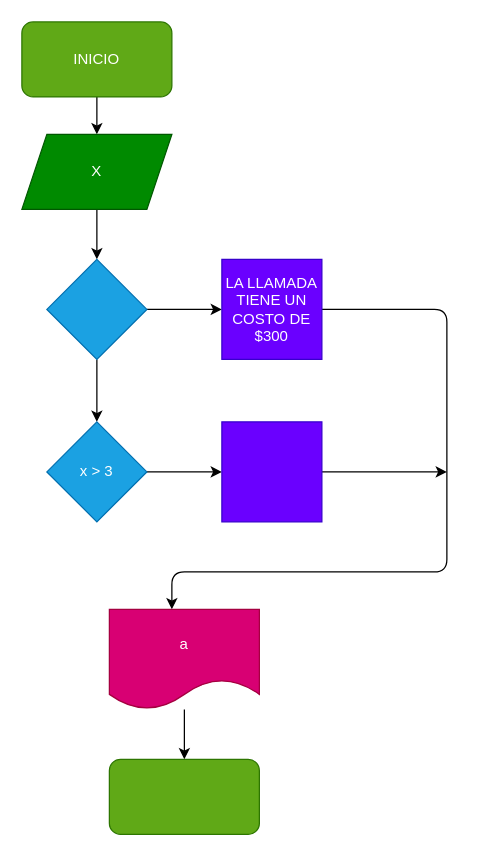
Some shapes in this 479 by 856 pixel diagram are drawn without their labels. Here are the shapes that lost their labels. From the top down, the box of each, then its label:
(46, 258, 147, 359): X < = 3
(221, 421, 322, 522): a = ((( x * 50) + 150 ))
(108, 758, 259, 834): FIN
